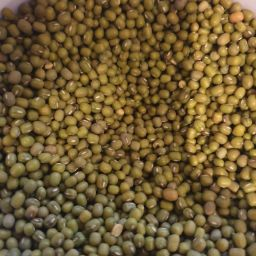Green gram dal(moong): (26, 63, 230, 211), (139, 3, 232, 256), (3, 4, 87, 256), (82, 2, 151, 256), (210, 16, 256, 256)
